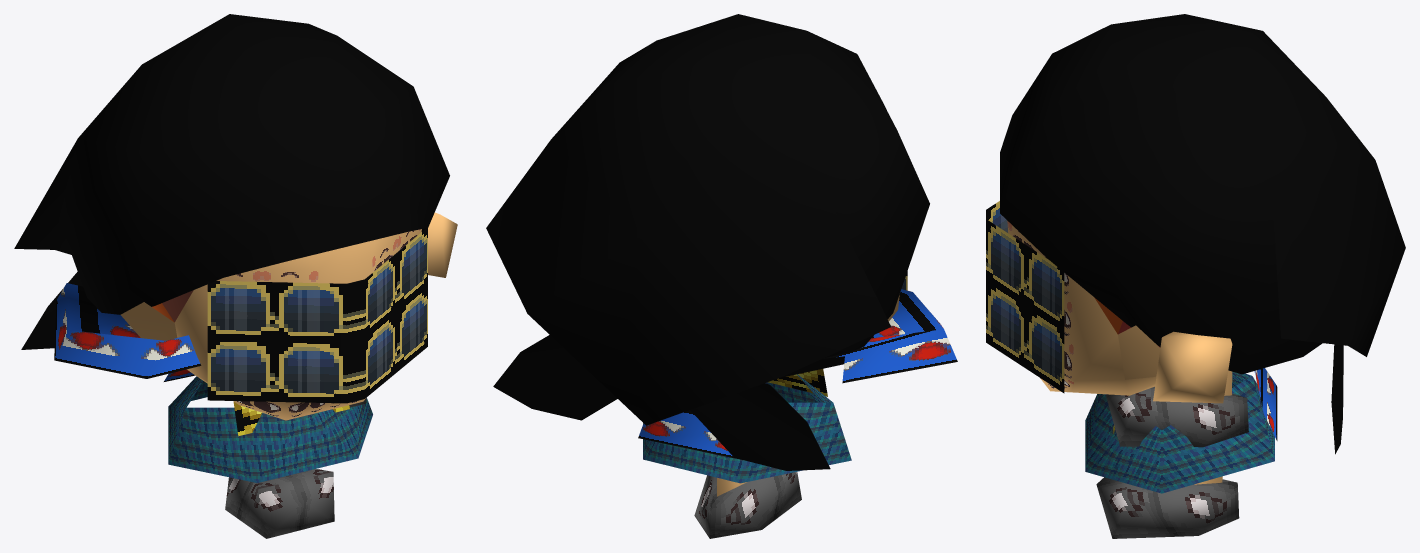
The picture shows the model from 3 angles, left to right: view 1: azimuth 30°, elevation 25°; view 2: azimuth 150°, elevation 25°; view 3: azimuth 270°, elevation 25°; orthographic projection. The views are drawn at different scales.
Parts seen in each view (by area): view 1: pmd66_00_01; view 2: pmd66_00_01; view 3: pmd66_00_01.
Part boxes in pixels (x1,y1,x2,y2): pmd66_00_01: (14,14,457,538); pmd66_00_01: (486,14,957,538); pmd66_00_01: (986,14,1405,538).
Bounding box in the file's own units: 1.22 × 1.33 × 1.04.
9 materials, 9 textured.
